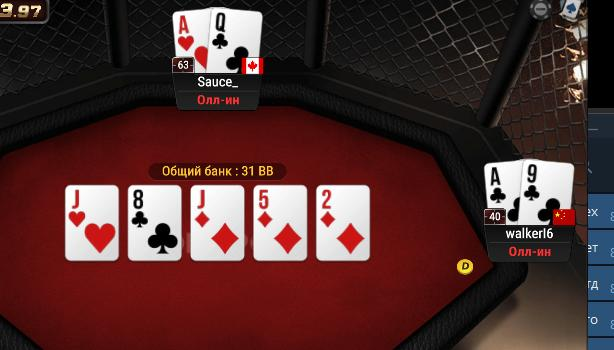2d: (317, 186, 369, 260)
5d: (253, 185, 307, 260)
8c: (129, 185, 181, 260)
9c: (521, 159, 574, 224)
Ac: (483, 162, 522, 226)
Ah: (172, 10, 209, 72)
Jd: (192, 186, 243, 260)
Jh: (66, 186, 118, 260)
Qc: (209, 6, 262, 73)
